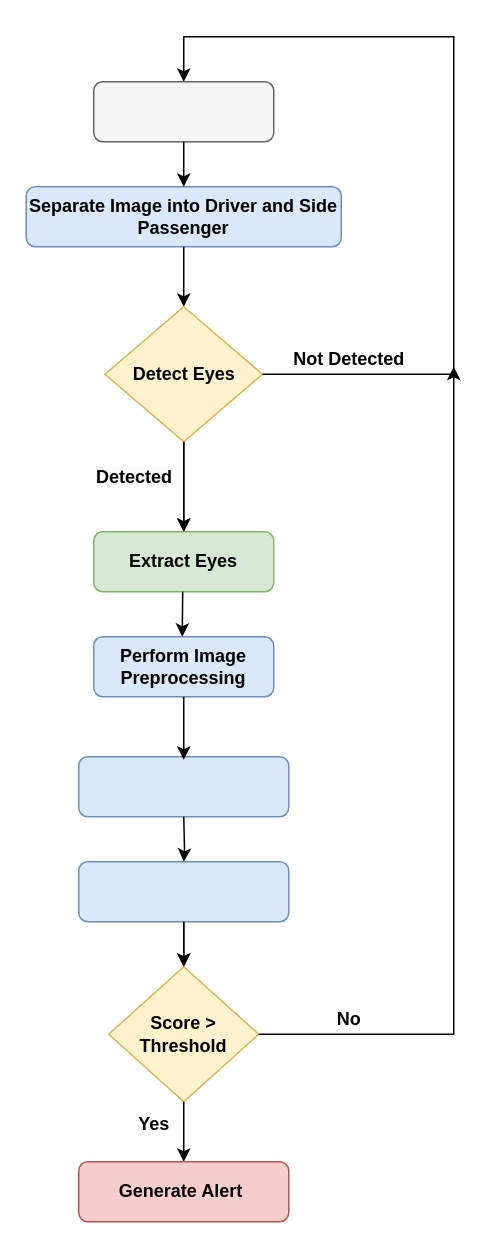
Some shapes in this 492 by 1248 pixel diagram are drawn without their labels. The box of each missing label's shape, as (x1, y1, x2, y2) in pixels:
Capture Image: (92, 80, 274, 142)
Prediction [Closed or Open Eyes]: (77, 755, 289, 817)
Update score based on prediction: (77, 860, 289, 922)
